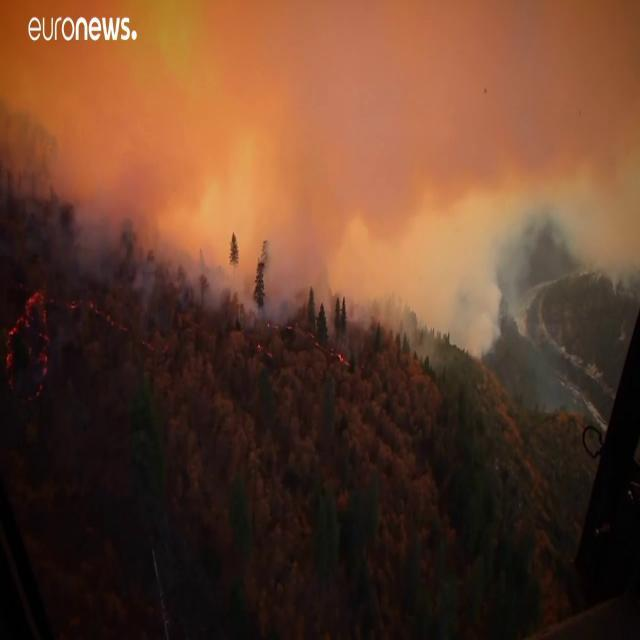Fire: (4, 288, 52, 396), (332, 350, 348, 364)
